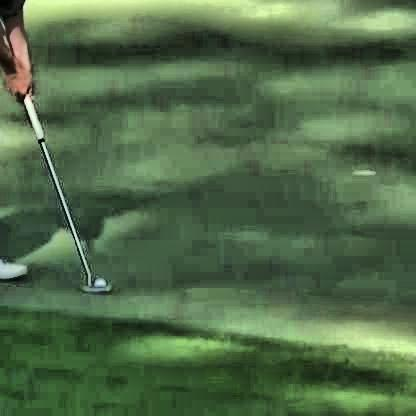golfball: (92, 276, 105, 286)
